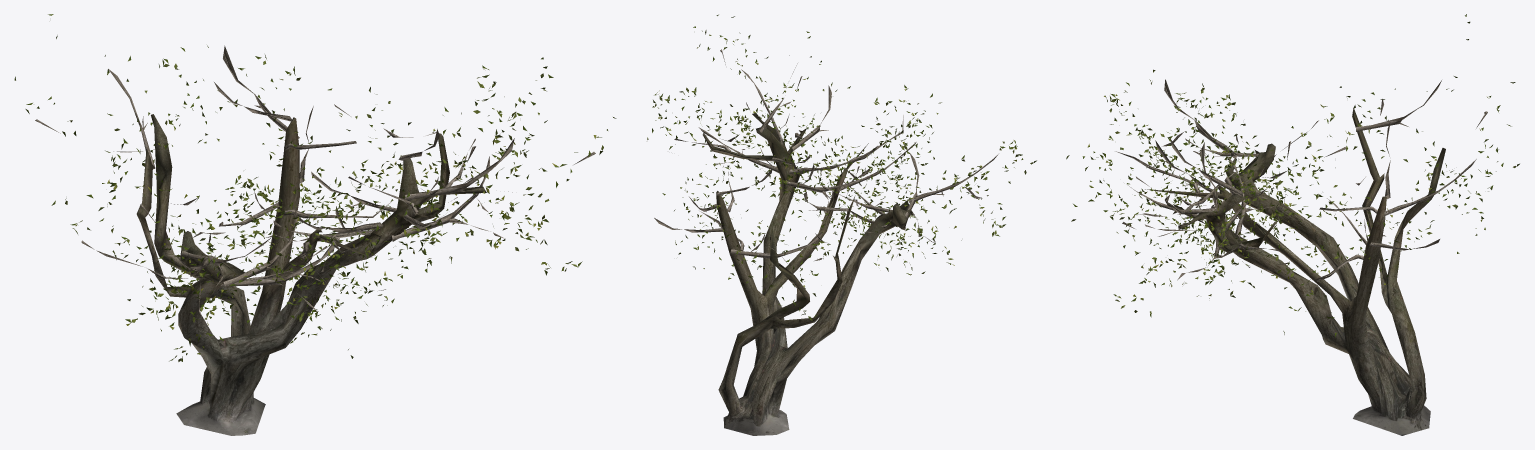
File: island_tree_02.glb
3 views of the same model, side by side, from view 1: azimuth 30°, elevation 25°; view 2: azimuth 150°, elevation 25°; view 3: azimuth 270°, elevation 25° (orthographic). The views are drawn at different scales.
Parts seen in each view (by area): view 1: island_tree_02_LOD0; view 2: island_tree_02_LOD0; view 3: island_tree_02_LOD0.
Boxes of the visible parts, x1=… form: island_tree_02_LOD0: x1=14, y1=14, x2=616, y2=435; island_tree_02_LOD0: x1=647, y1=14, x2=1036, y2=435; island_tree_02_LOD0: x1=1066, y1=14, x2=1519, y2=435.
Size of the model in its own units: 3.77 by 3.39 by 4.03.
3 materials, 3 textured.
